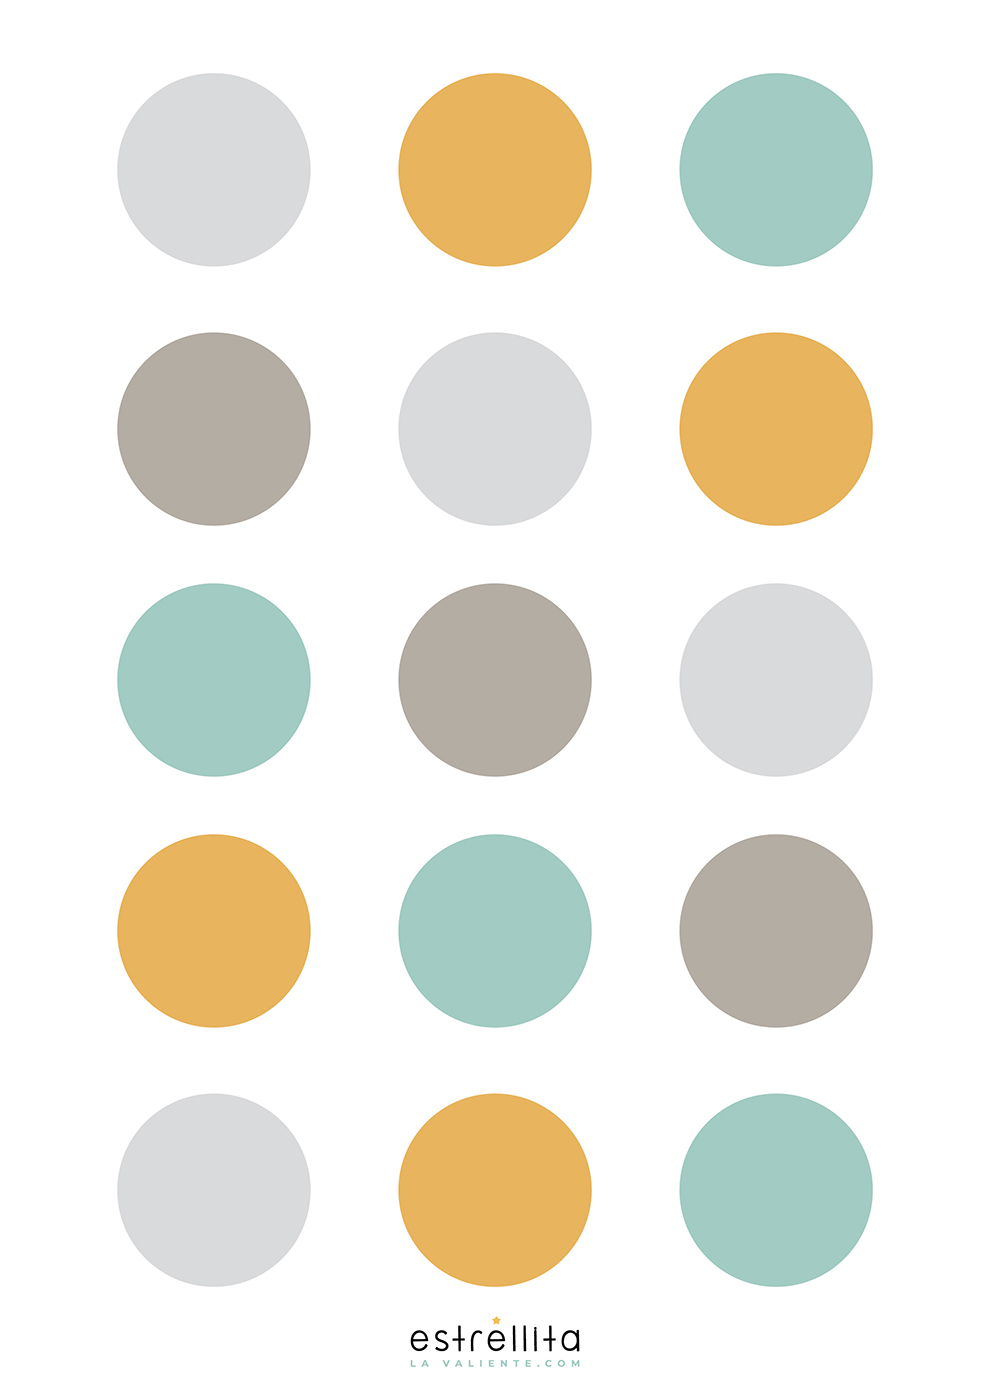circ: (101, 1077, 334, 1310), (664, 821, 898, 1047), (662, 65, 891, 289), (386, 1082, 610, 1305), (108, 58, 324, 288), (105, 826, 332, 1043), (105, 322, 329, 541), (662, 577, 889, 793), (669, 1088, 888, 1307), (393, 569, 605, 795), (662, 327, 884, 541), (105, 574, 322, 784), (389, 329, 603, 541), (391, 827, 603, 1041), (393, 65, 601, 284)
